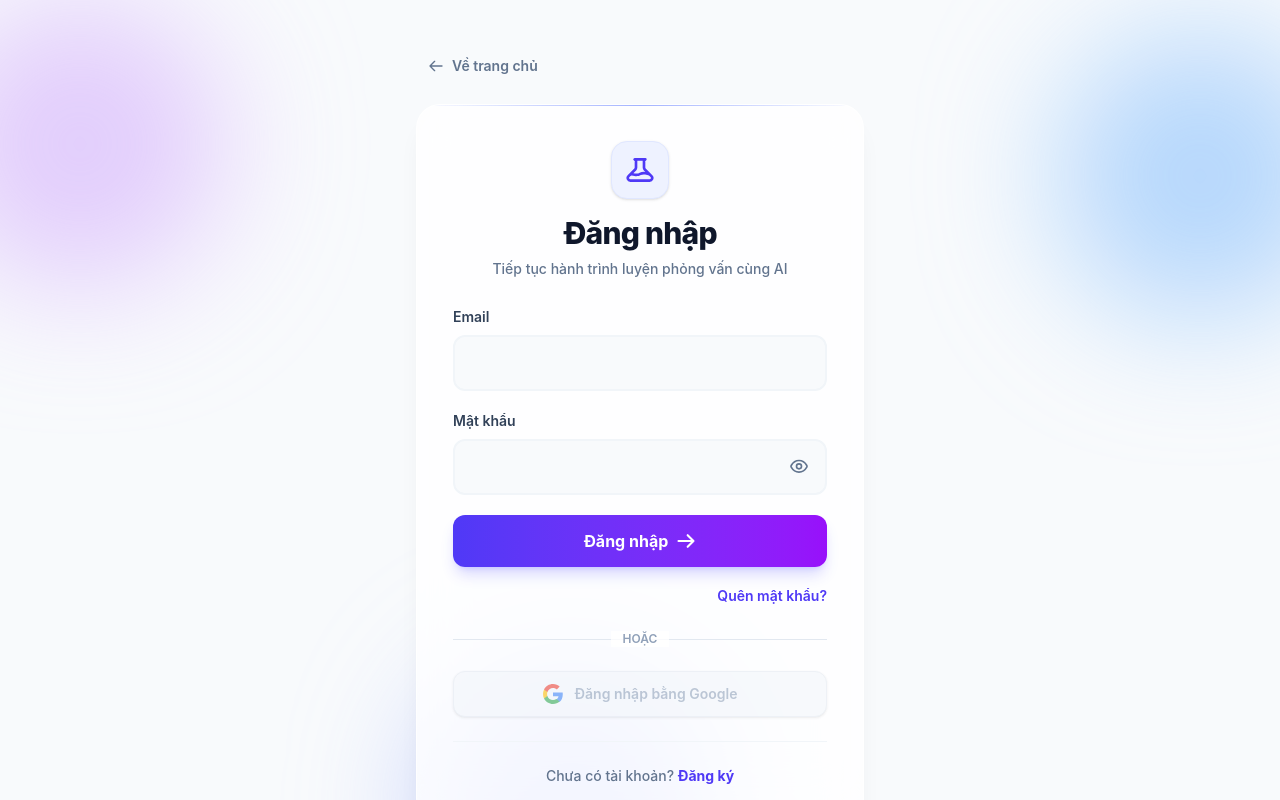
auth pages › toggles Login password visibility without changing its value
The width and height of the screenshot is (1280, 800).
Type "secret-password" into the password field labelled "Mật khẩu" at (640, 467), box [453,439,827,495]
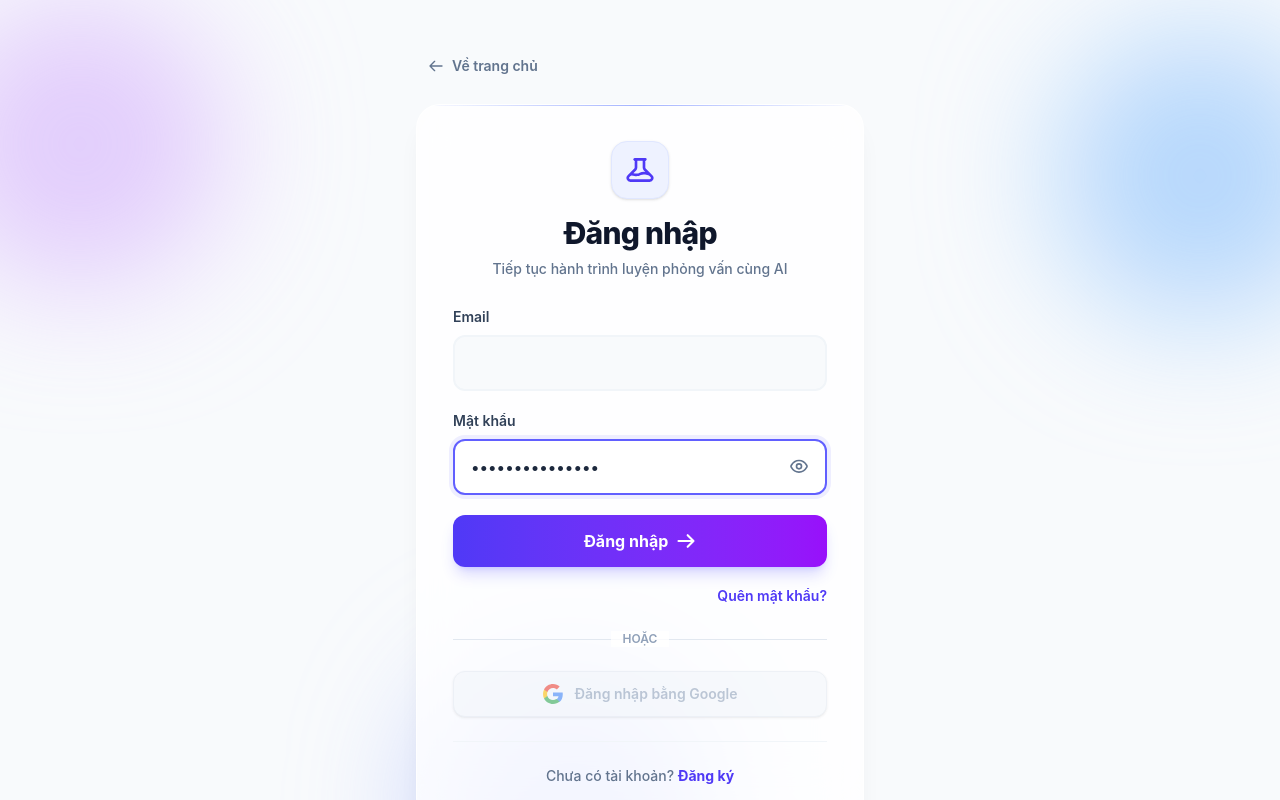
Click the button named "Hiện mật khẩu" at (799, 467), box [783,451,815,483]
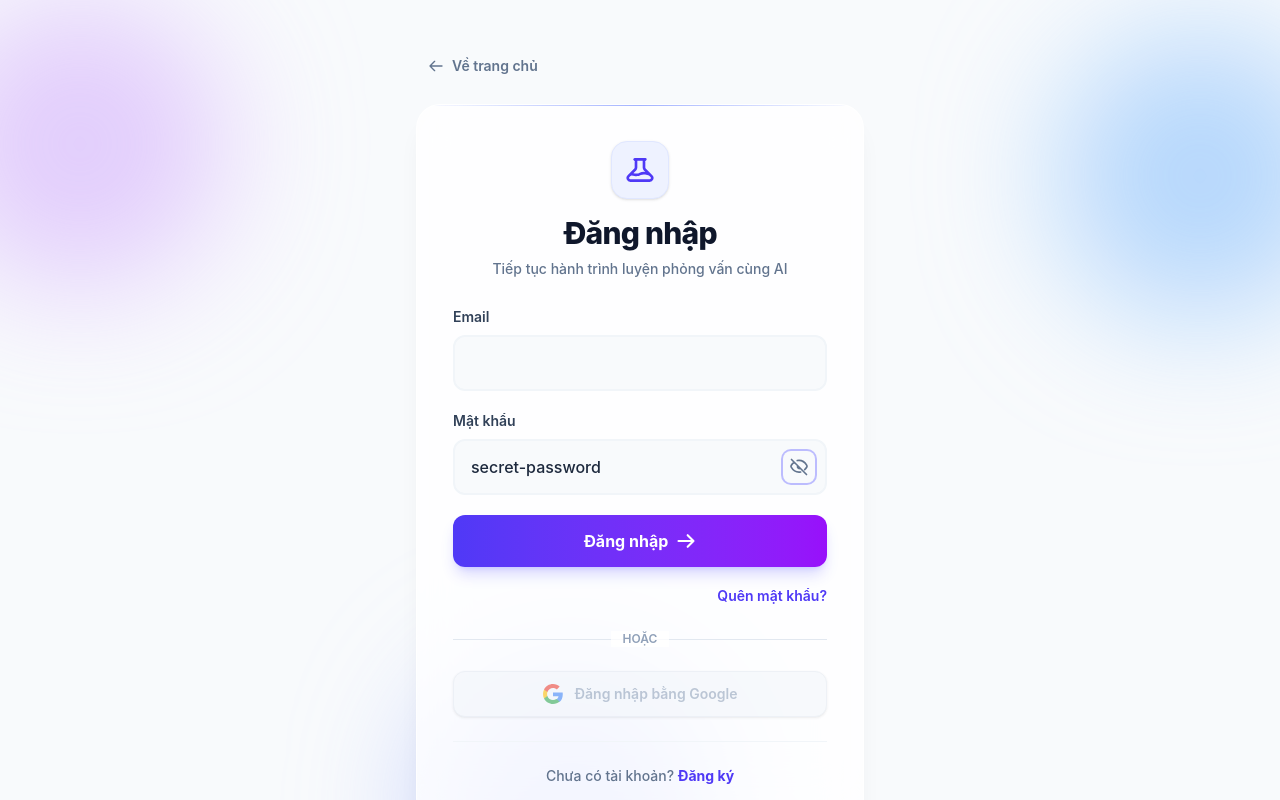
Now the field labelled "Mật khẩu" shows its text, box [453,439,827,495]
Click the button named "Ẩn mật khẩu" at (799, 467), box [783,451,815,483]
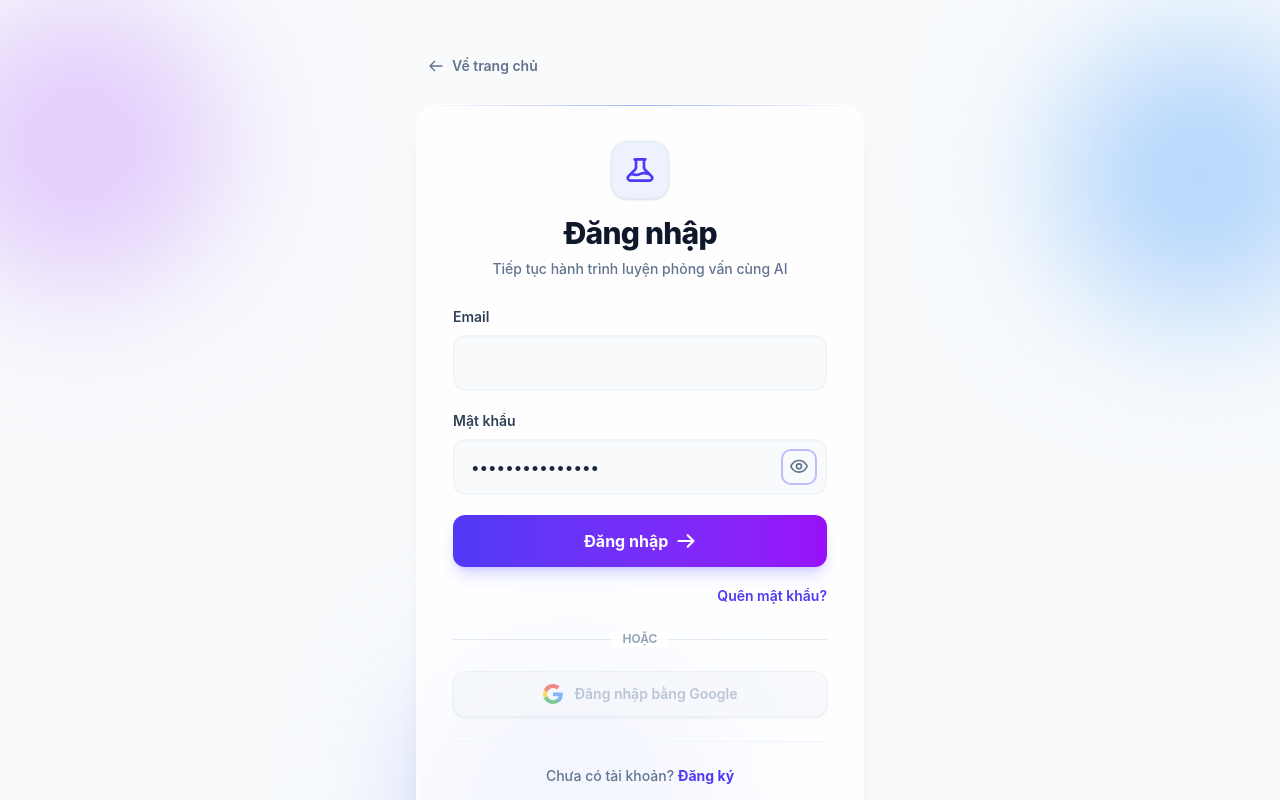
Now the password field labelled "Mật khẩu" hides its text, box [453,439,827,495]
